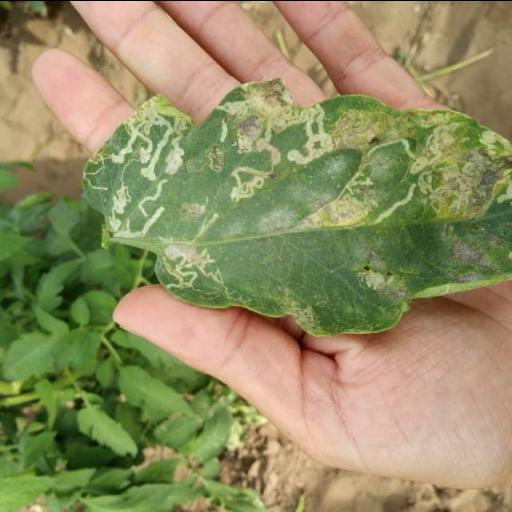Leaf Miner: (82, 73, 512, 343)
